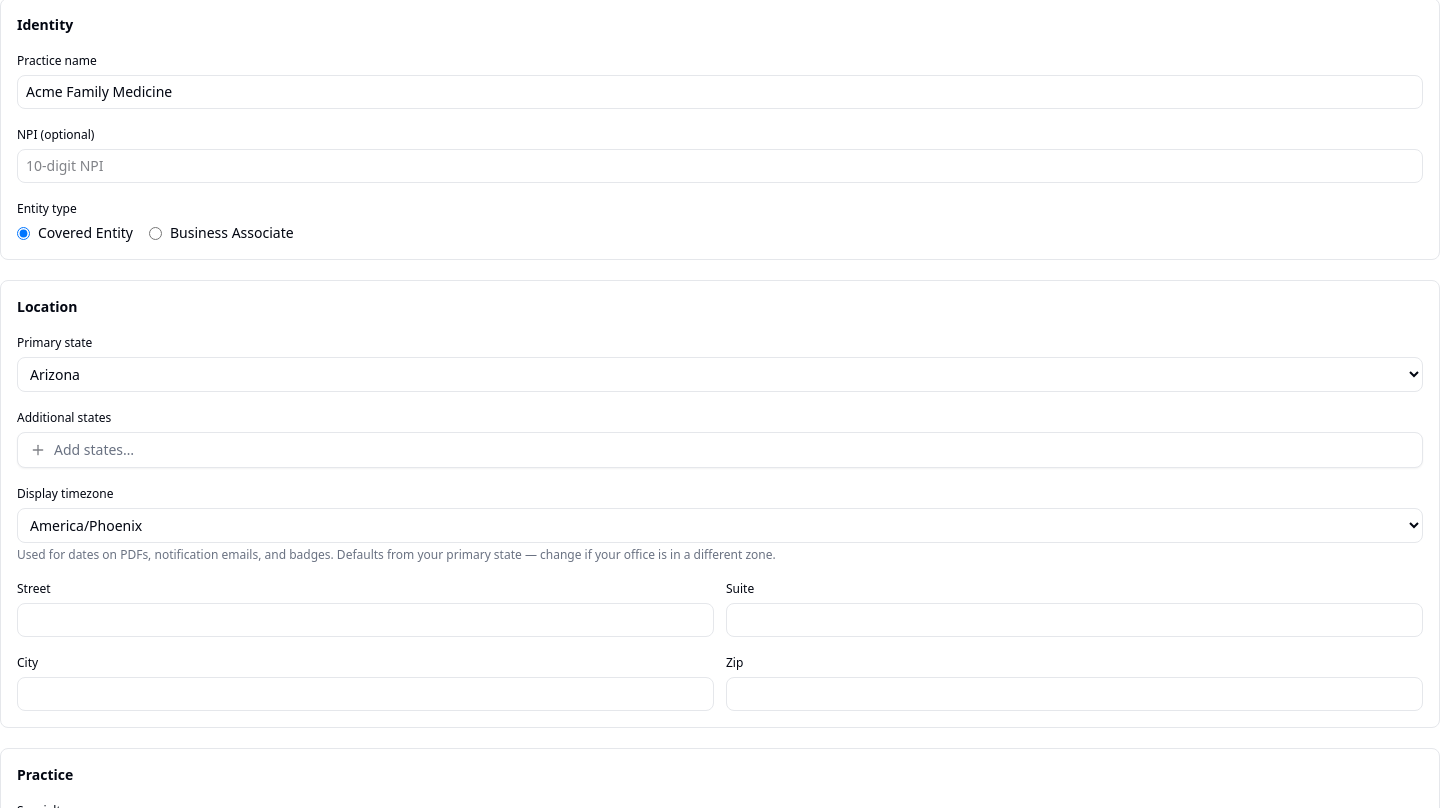
PracticeProfileForm › rejects submit when NPI is invalid (10 digits but bad checksum)
The image size is (1452, 808).
Type "1234567890" into the field labelled "NPI (optional)" at point(720, 166), box left=17, top=149, right=1423, bottom=183
(page scrolled)
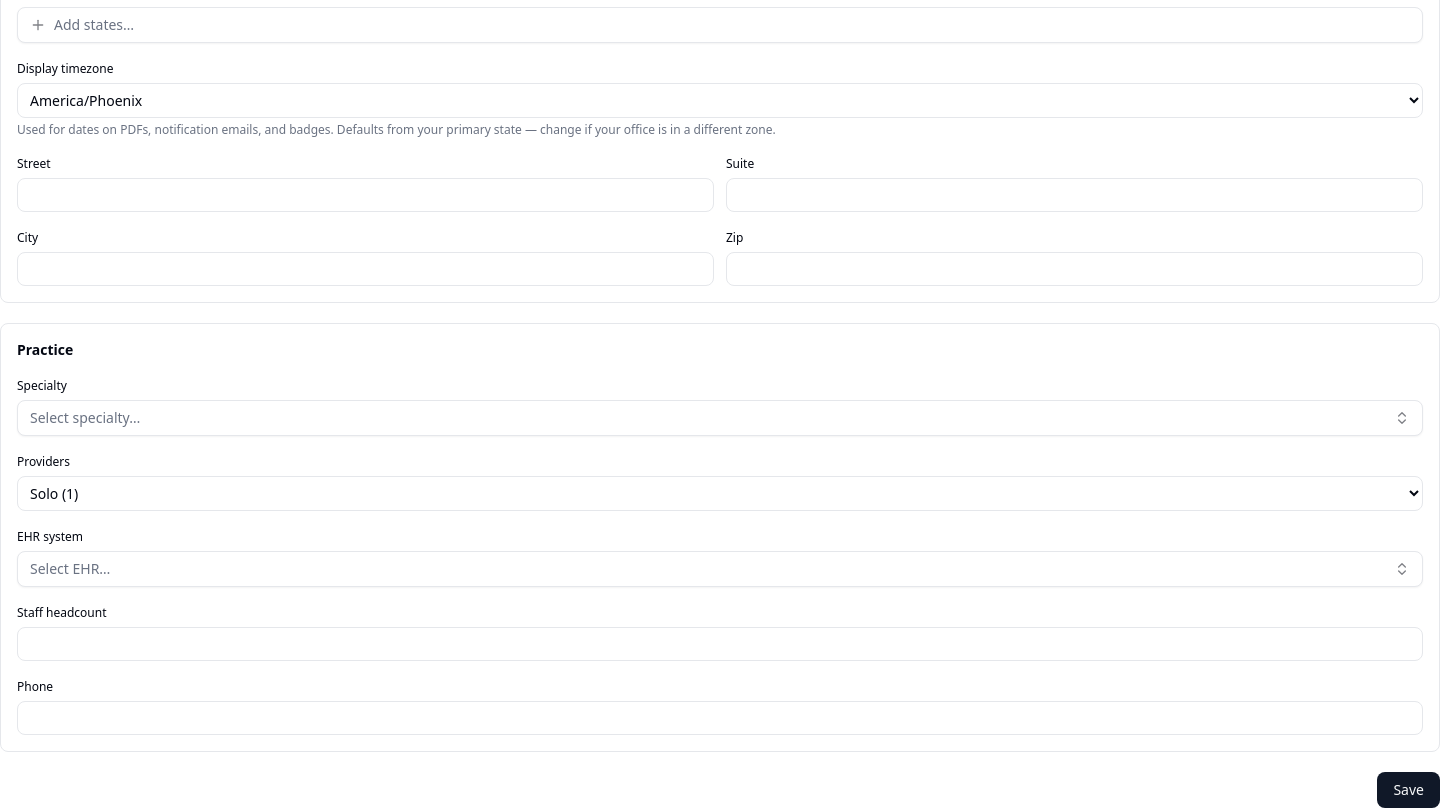
Click the button "Save" at point(1409, 790), box left=1377, top=772, right=1440, bottom=807
(page scrolled)
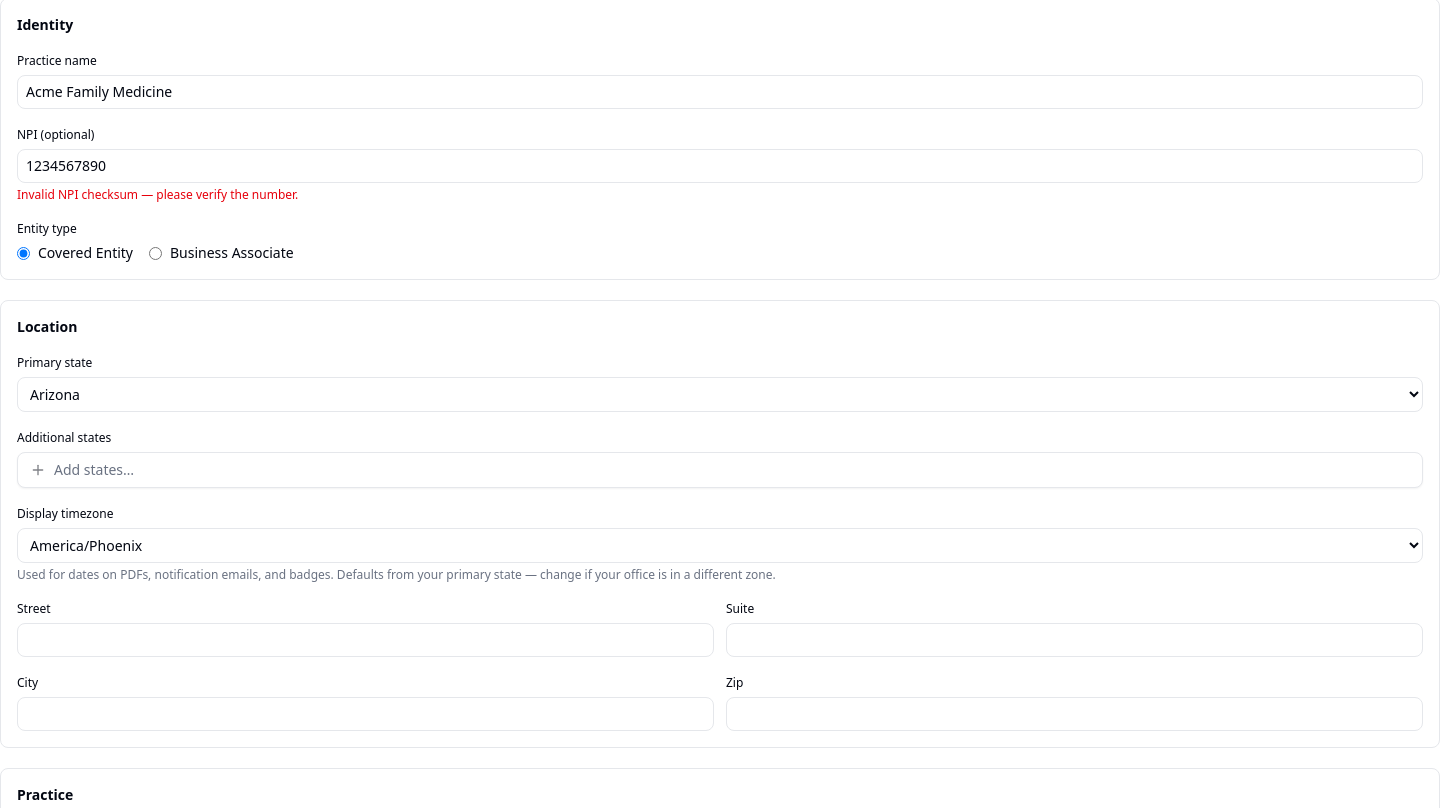
Expected: the text "Invalid NPI checksum — please verify the number." is shown, left=17, top=186, right=298, bottom=203
